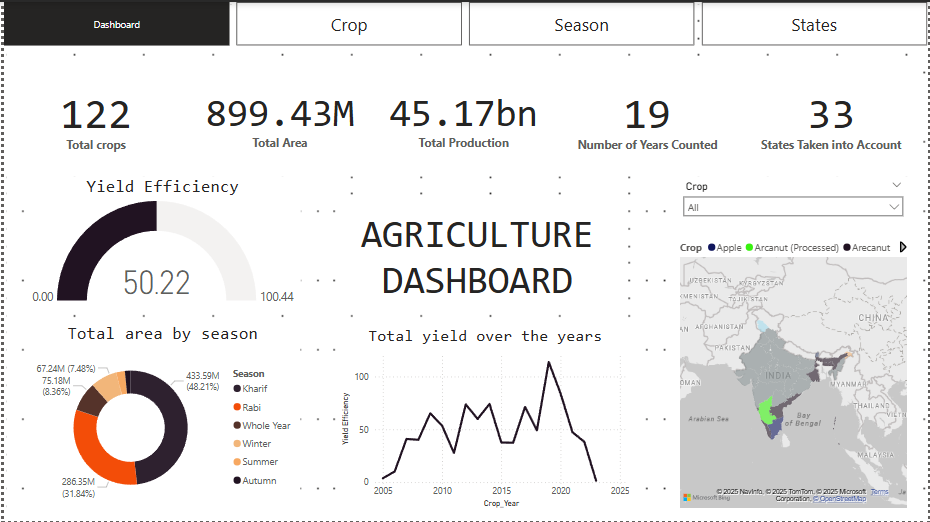

This screenshot's page, from the dashboard's own definition file:
{"tool":"powerbi","page":{"name":"Dashboard","canvas":[1280,720],"ordinal":0},"visuals":[{"type":"card","fields":{"Values":["Count(e33952a7b79341025642.Crop)"]},"box":[0,78.1,254.5,163],"z":0},{"type":"card","fields":{"Values":["Sum(e33952a7b79341025642.Area)"]},"box":[254.5,78.1,254.5,163],"z":1000},{"type":"card","fields":{"Values":["Sum(e33952a7b79341025642.Production)"]},"box":[509,78.1,254.5,163],"z":2000},{"type":"textbox","box":[462.1,285.8,386.2,138.4],"z":3000},{"type":"pageNavigator","box":[0,0,1279.3,60.3],"z":4000},{"type":"card","fields":{"Values":["Count(e33952a7b79341025642.Crop_Year)"]},"box":[763.5,78.1,254.5,163],"z":5000},{"type":"card","fields":{"Values":["Count(e33952a7b79341025642.State_Name)"]},"box":[1018,78.1,254.5,163],"z":6000},{"type":"lineChart","title":"Total yield over the years","fields":{"Category":["e33952a7b79341025642.Crop_Year"],"Y":["india.Yield Efficiency"]},"box":[462.1,448.7,408.6,256.7],"z":7000},{"type":"filledMap","fields":{"Category":["e33952a7b79341025642.State_Name"],"Series":["e33952a7b79341025642.Crop"]},"box":[931,319.3,323.7,386.2],"z":8000},{"type":"slicer","fields":{"Values":["e33952a7b79341025642.Crop"]},"box":[931,241.1,323.7,78.1],"z":9000},{"type":"gauge","fields":{"Y":["india.Yield Efficiency"]},"box":[29,241.1,381.8,183.1],"z":10000},{"type":"donutChart","title":"Total area by season","fields":{"Y":["Sum(e33952a7b79341025642.Area)"],"Category":["e33952a7b79341025642.Season"]},"box":[28.8,444,381.6,261.6],"z":11000}]}

Visuals, with their boxes on the page's 1280x720 design canvas (x1, y1, x2, y2). These are canvas units, not pixel positions in the 930x522 screenshot, which may show the page scaled, cropped or inside an application window:
card - Count(e33952a7b79341025642.Crop): (0, 78, 254, 241)
card - Sum(e33952a7b79341025642.Area): (254, 78, 509, 241)
card - Sum(e33952a7b79341025642.Production): (509, 78, 764, 241)
textbox: (462, 286, 848, 424)
pageNavigator: (0, 0, 1279, 60)
card - Count(e33952a7b79341025642.Crop_Year): (764, 78, 1018, 241)
card - Count(e33952a7b79341025642.State_Name): (1018, 78, 1272, 241)
"Total yield over the years" lineChart: (462, 449, 871, 705)
filledMap - e33952a7b79341025642.State_Name x e33952a7b79341025642.Crop: (931, 319, 1255, 706)
slicer - e33952a7b79341025642.Crop: (931, 241, 1255, 319)
gauge - india.Yield Efficiency: (29, 241, 411, 424)
"Total area by season" donutChart: (29, 444, 410, 706)
